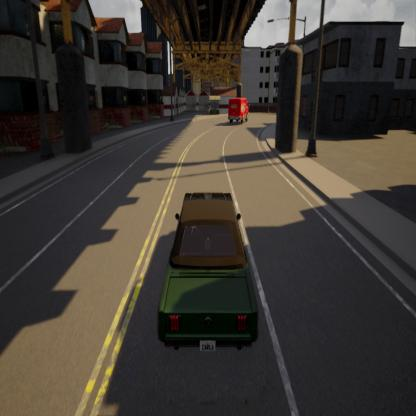Cars: (149, 182, 270, 363), (226, 92, 253, 128)
